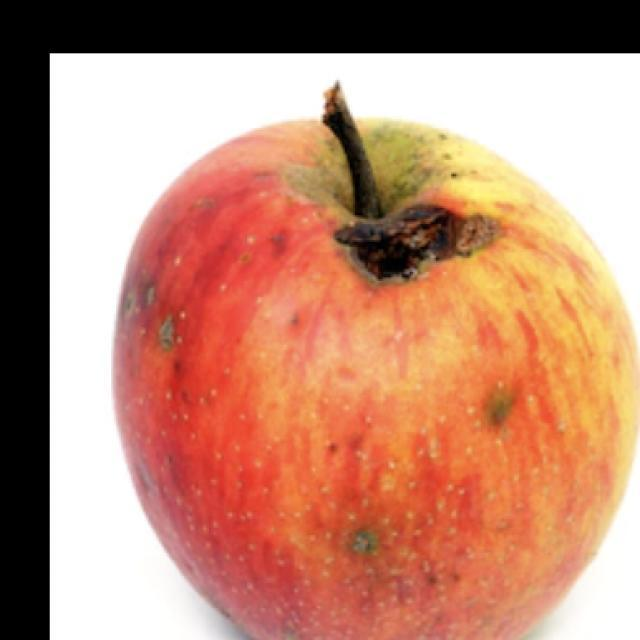Rotten: (128, 125, 640, 640)
